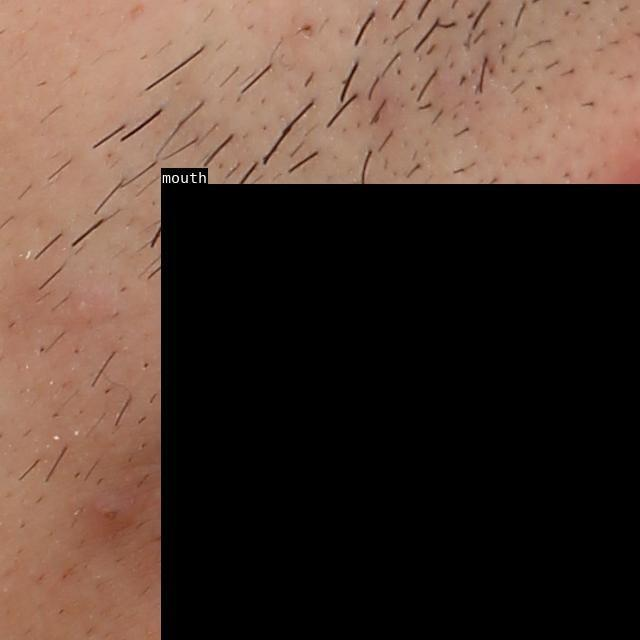papule: (79, 487, 136, 536)
